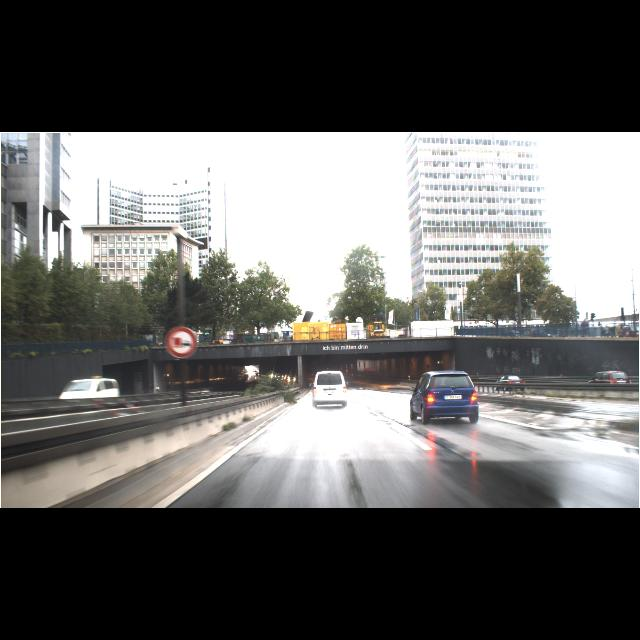prohibitory: (165, 327, 197, 358)
